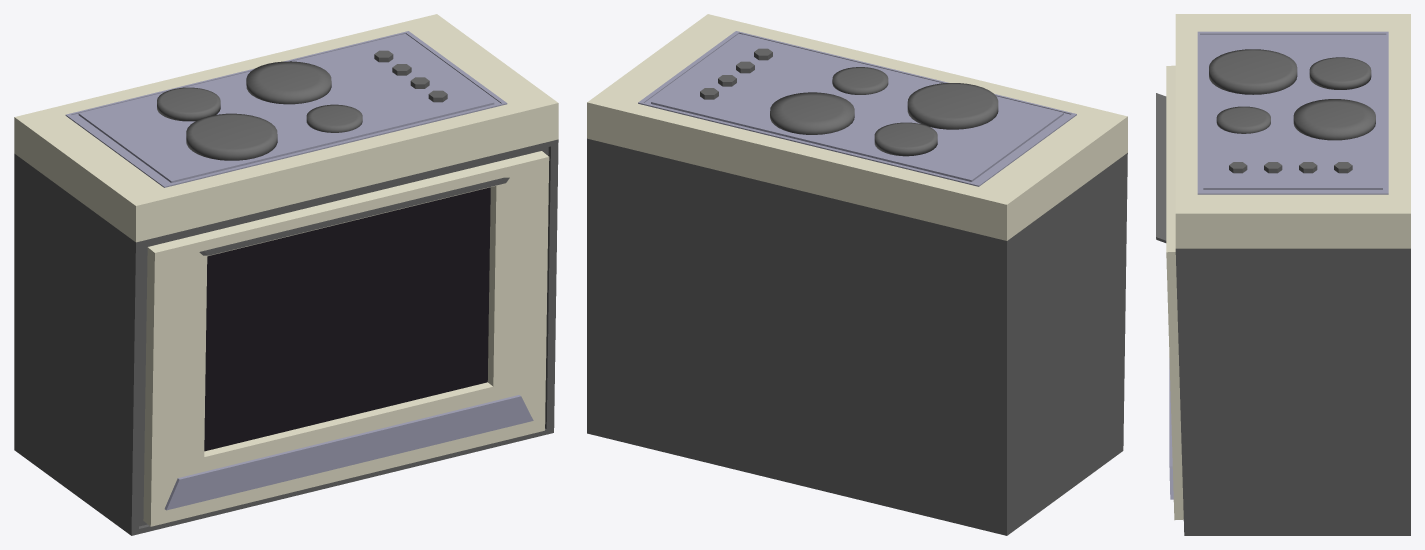
The model's file is Oven.glb.
3 renders of one model, left to right at view 1: azimuth 30°, elevation 25°; view 2: azimuth 150°, elevation 25°; view 3: azimuth 270°, elevation 25°, orthographic. The views are drawn at different scales.
Parts seen in each view (by area): view 1: Kitchen_Furniture; view 2: Kitchen_Furniture; view 3: Kitchen_Furniture.
Part boxes in pixels (<box>): Kitchen_Furniture: <box>14,14,558,535</box>; Kitchen_Furniture: <box>587,14,1127,535</box>; Kitchen_Furniture: <box>1156,14,1410,535</box>.
Size of the model in its own units: 0.7978 by 0.6218 by 0.4305.
